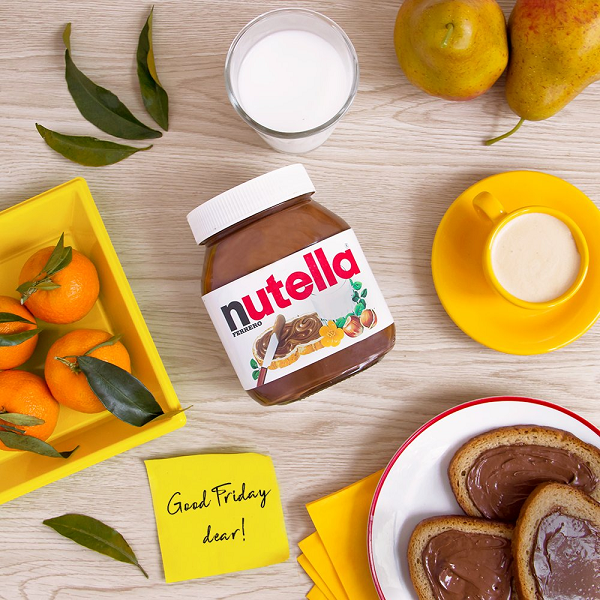nutella: (186, 161, 398, 409)
